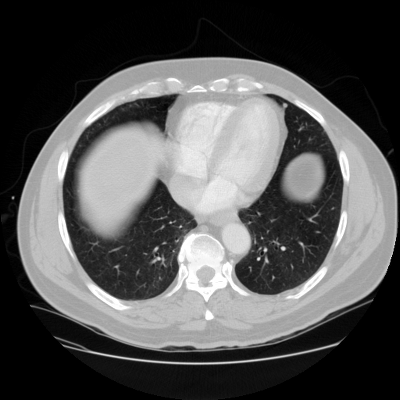nodule: (283, 103, 287, 107)
